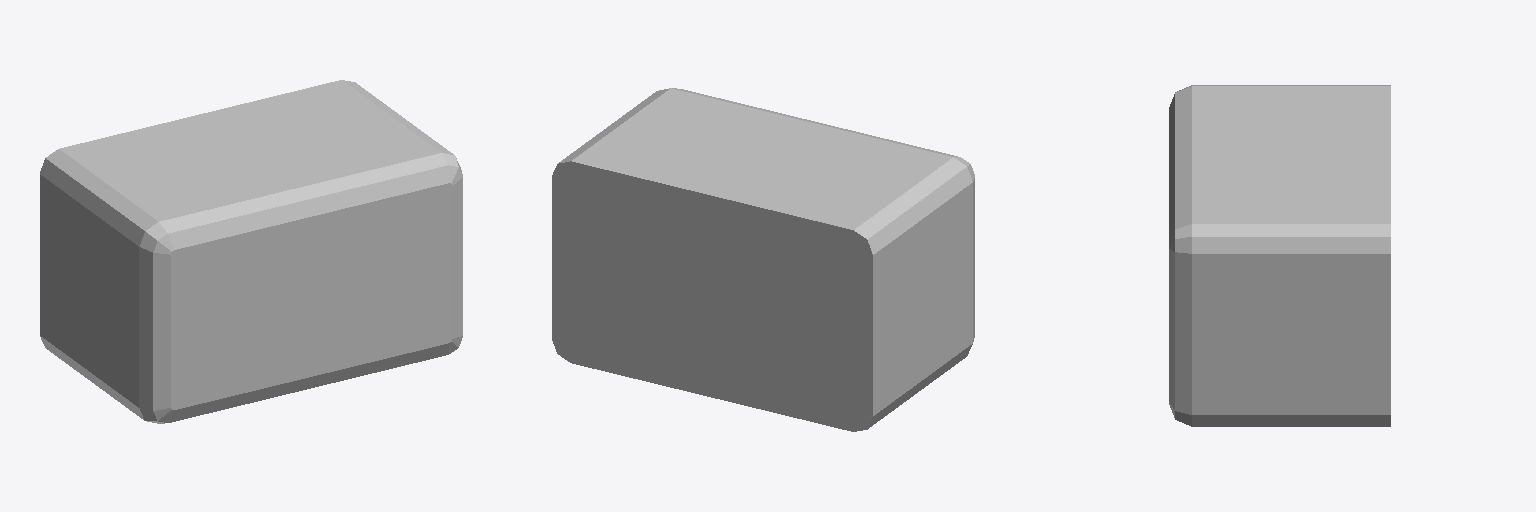
File: 100_LongRectangle.obj
3 renders of one model, left to right at view 1: azimuth 30°, elevation 25°; view 2: azimuth 150°, elevation 25°; view 3: azimuth 270°, elevation 25°, orthographic.
Visible parts, largest first — view 1: LongRectangle.001_Plane.871; view 2: LongRectangle.001_Plane.871; view 3: LongRectangle.001_Plane.871.
Part boxes in pixels (left/top/right/bottom): LongRectangle.001_Plane.871: left=40, top=80, right=462, bottom=423; LongRectangle.001_Plane.871: left=552, top=88, right=974, bottom=431; LongRectangle.001_Plane.871: left=1169, top=85, right=1390, bottom=426.
Size of the model in its own units: 5 by 3 by 3.